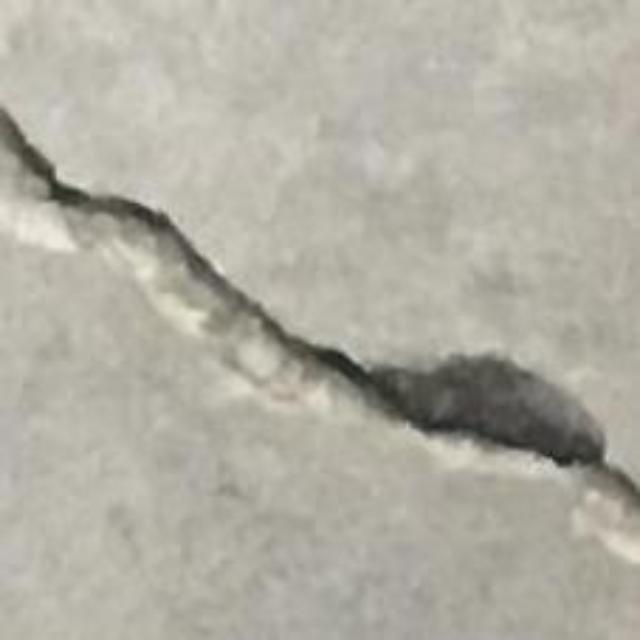crack: (0, 108, 639, 561)
